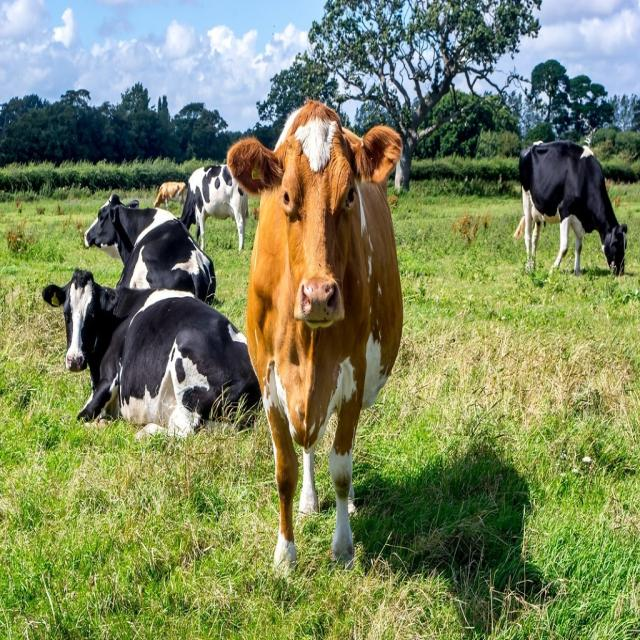cow: (203, 98, 415, 576)
